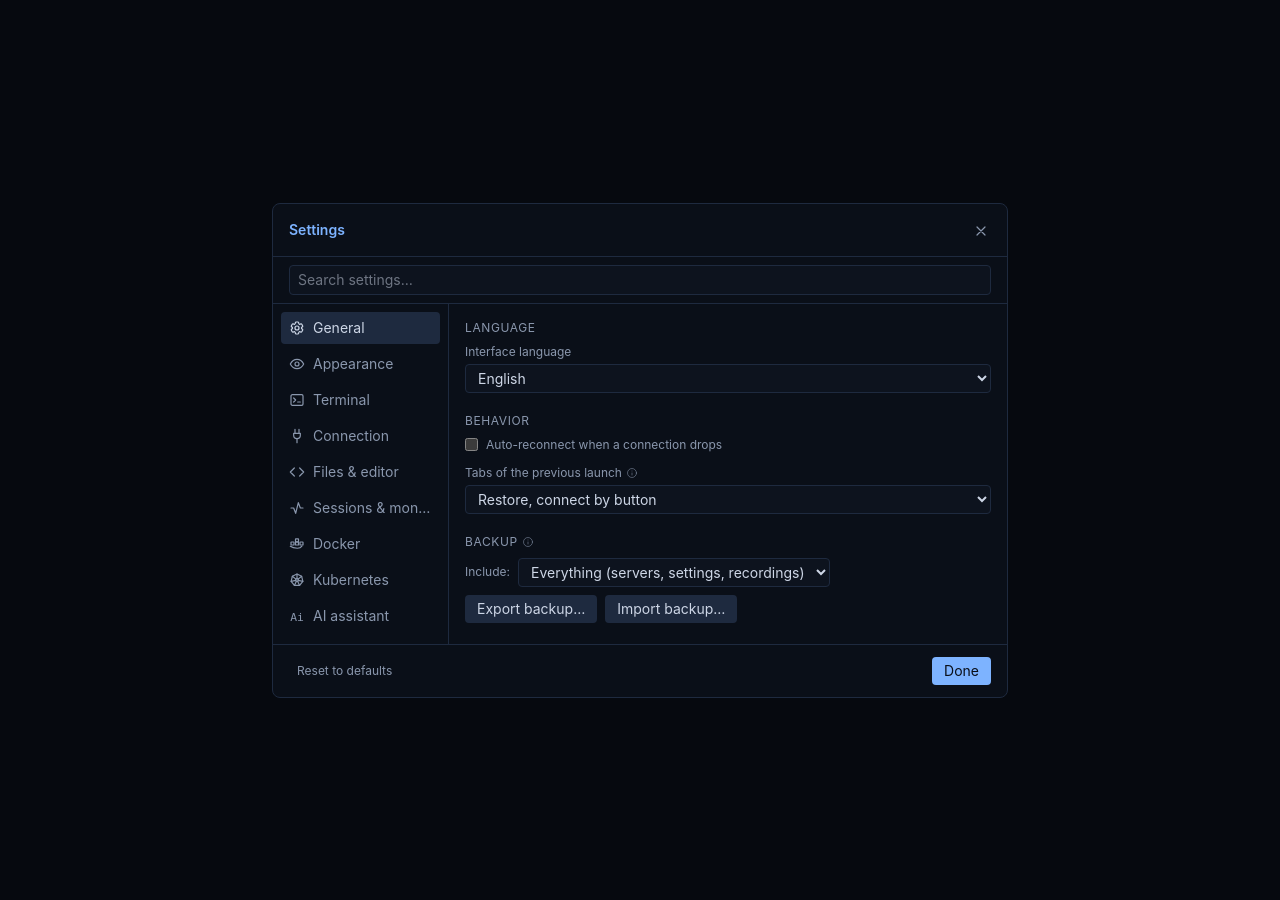
Test: SettingsPanel — backup › shows what the backup holds before writing anything, then imports and notifies the parent
The image size is (1280, 900).
Click the button with test id "backup-import": coordinates (671, 608) [605, 594, 737, 622]
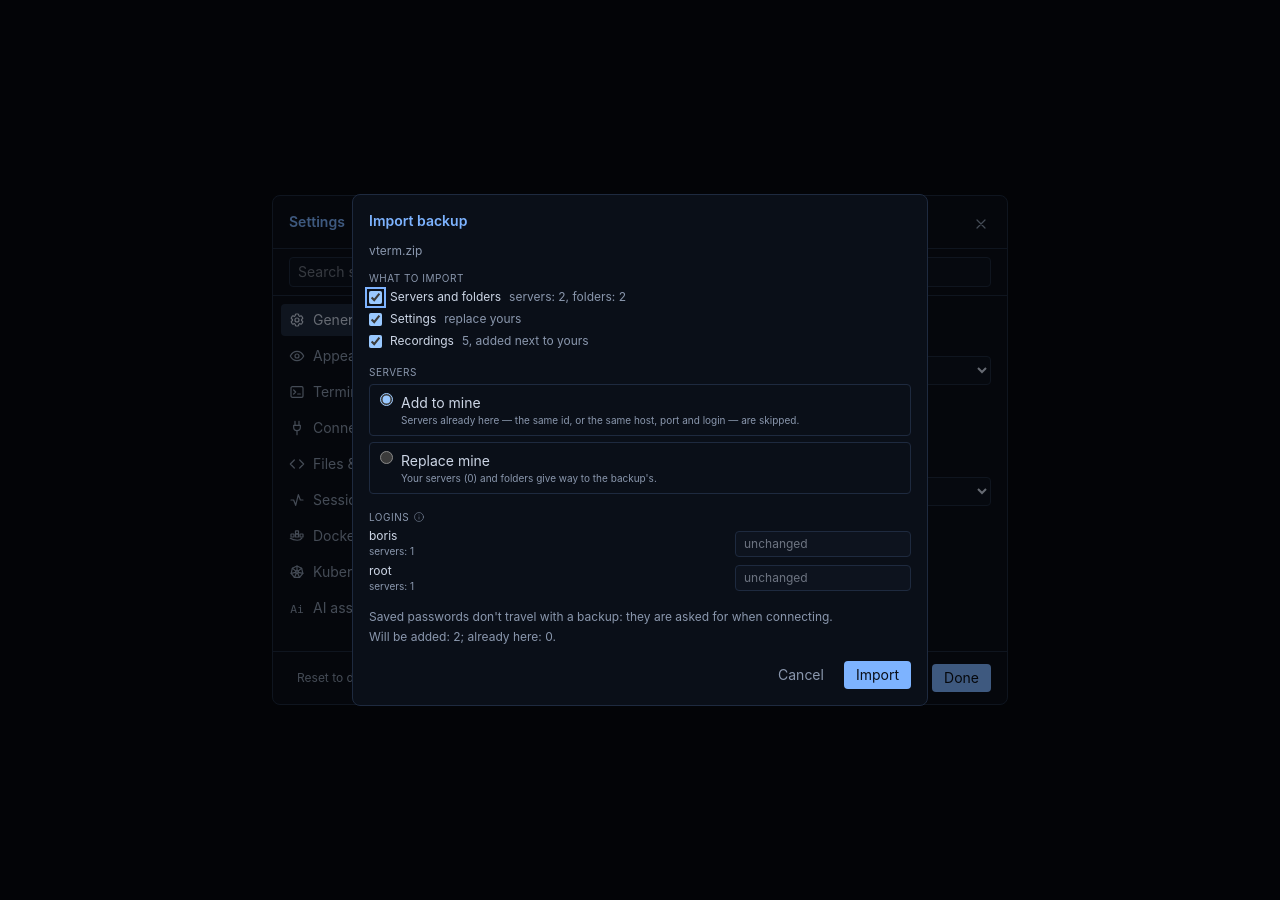
Now the element with test id "backup-logins" is shown, box [369, 528, 911, 593]
Note: The backup was made by someone else: their login becomes ours.
In the field named "Replace boris with": coordinates (823, 544) [735, 531, 911, 557], type "ivan"
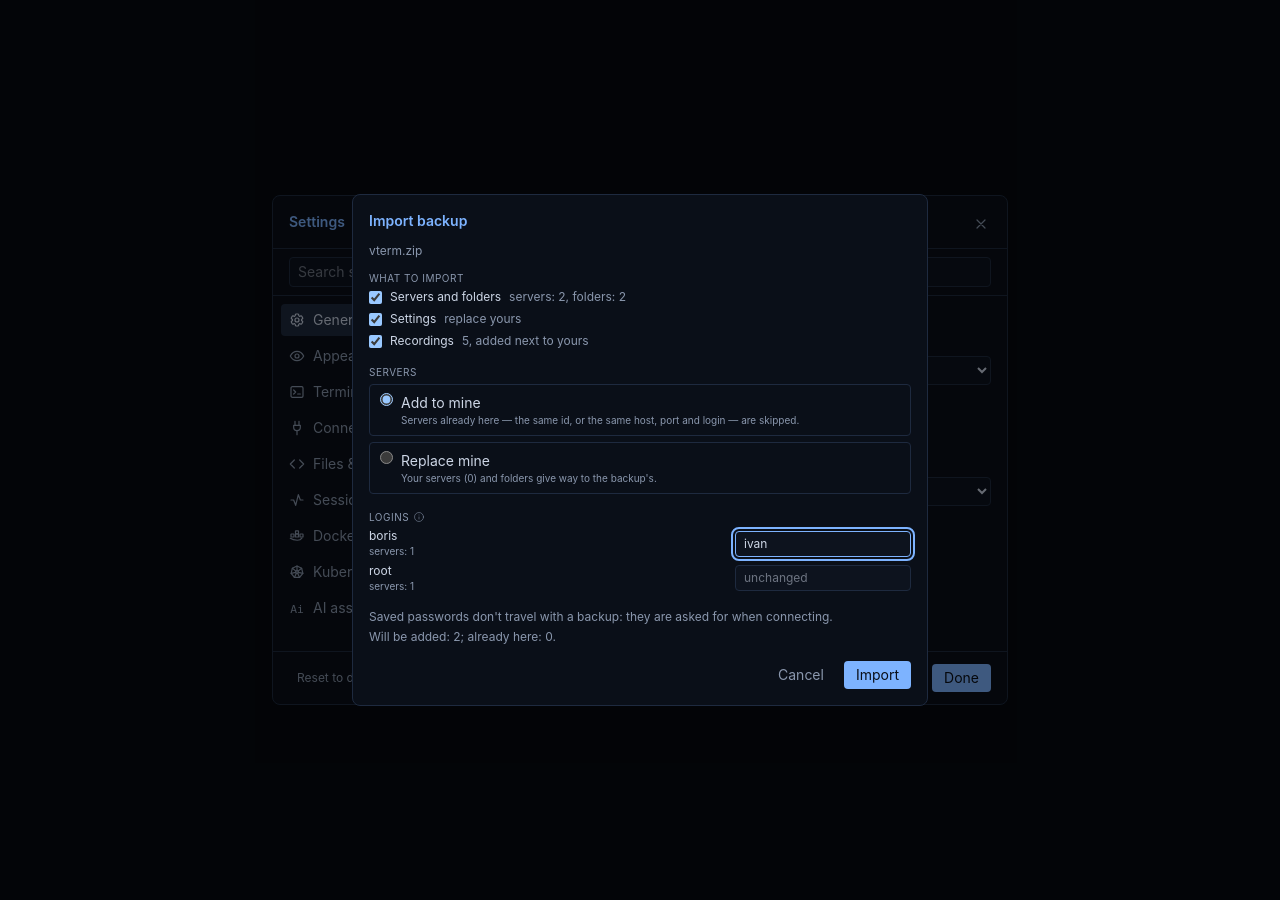
Click the button with test id "backup-import-confirm": coordinates (877, 675) [844, 661, 911, 689]
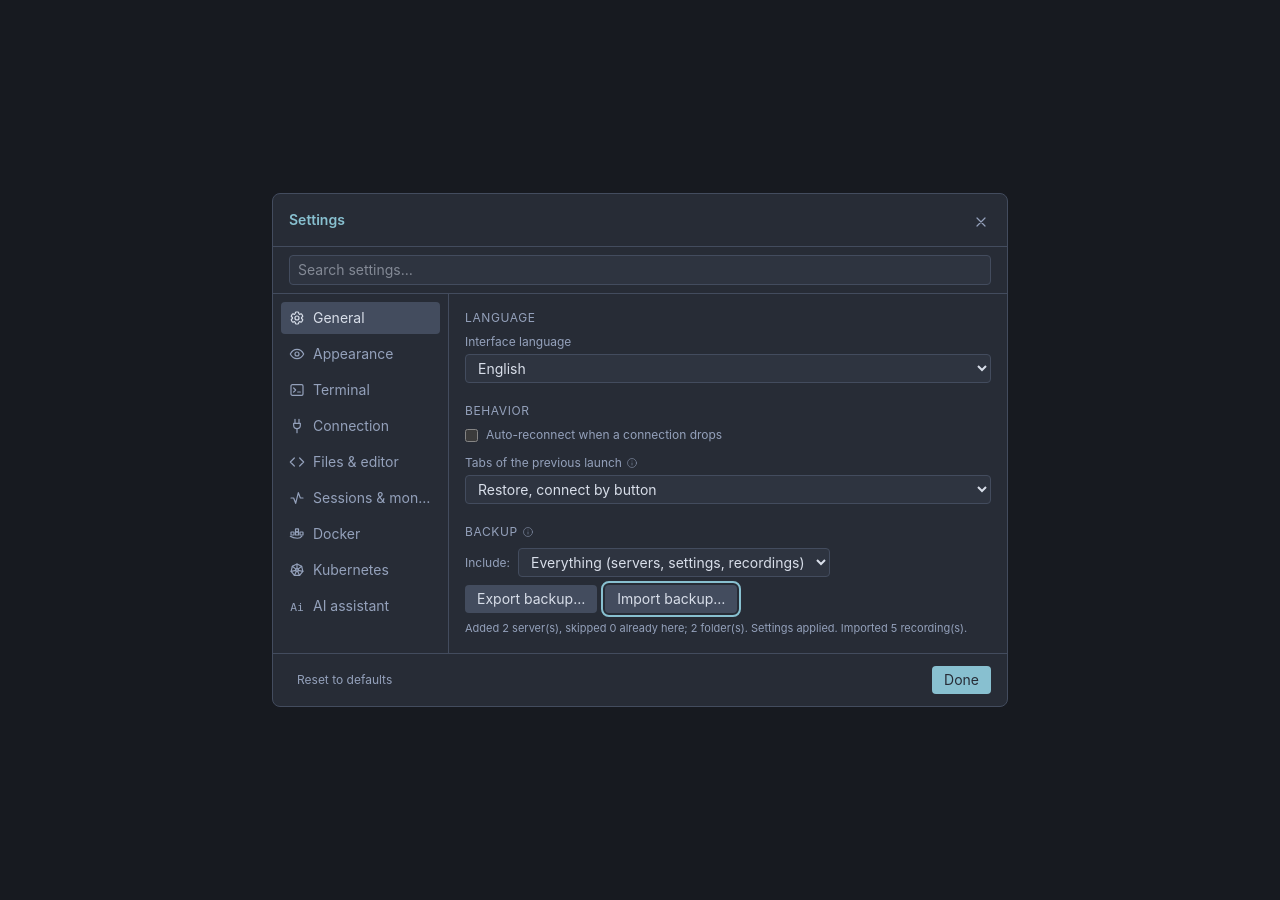
Now the text with test id "backup-msg" shows "Added 2 server(s), skipped 0 already here; 2 folder(s)", box [465, 621, 967, 635]
Now the text with test id "backup-msg" shows "Settings applied", box [465, 621, 967, 635]
Now the text with test id "backup-msg" shows "Imported 5 recording(s)", box [465, 621, 967, 635]
